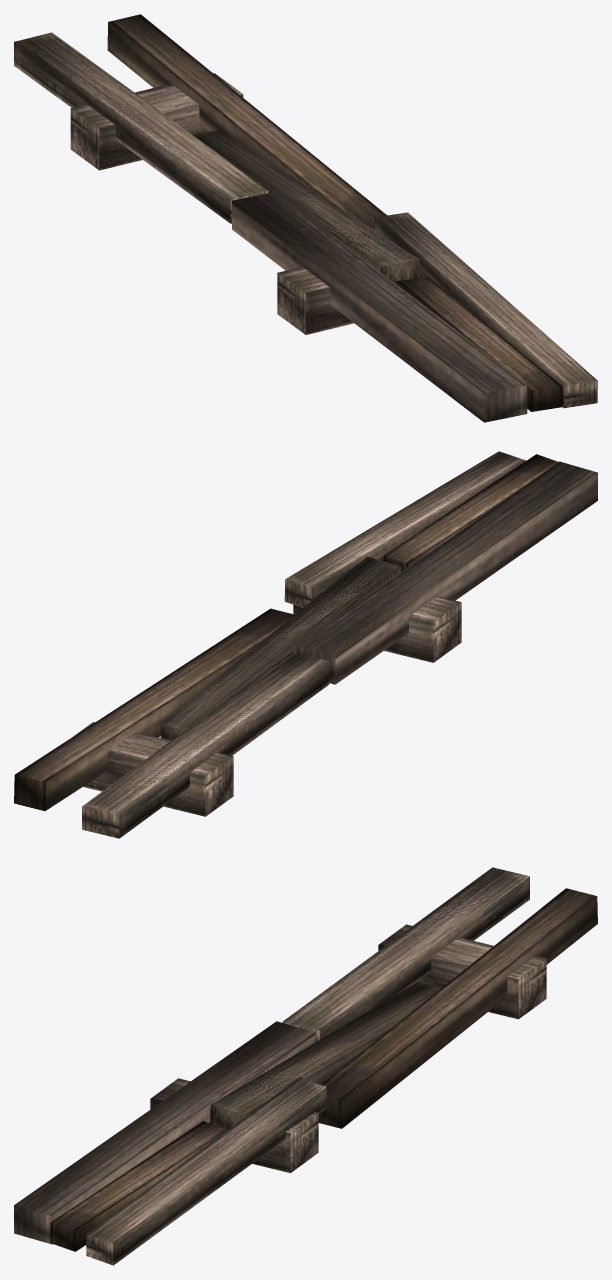
File: stst41.dae
3 views of the same model, one above another, from view 1: azimuth 30°, elevation 25°; view 2: azimuth 150°, elevation 25°; view 3: azimuth 330°, elevation 25° (orthographic). The views are drawn at different scales.
Visible parts, largest first — view 1: base1, base2; view 2: base1, base2; view 3: base1, base2.
Part boxes in pixels (<box>): base1: <box>14,14,597,422</box>; base2: <box>25,15,564,421</box>; base1: <box>14,451,597,838</box>; base2: <box>16,461,594,812</box>; base1: <box>14,867,597,1265</box>; base2: <box>14,869,597,1248</box>.
Bounding box in the file's own units: 0.3847 × 2.07 × 0.139.
Materials: 1 (1 with a texture image).
